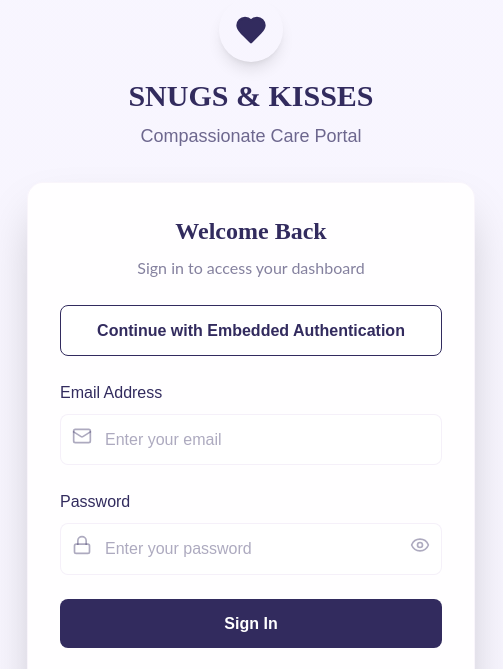
Scenario: LoginForm Component › handles network errors gracefully
Type "test@example.com" into the field labelled "Email Address" at x=251, y=440, box [60,414,442,465]
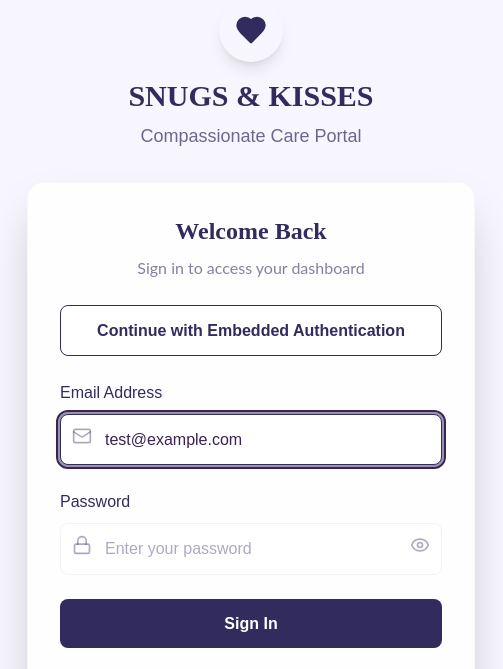
Type "password123" into the password field labelled "Password" at x=251, y=549, box [60,523,442,575]
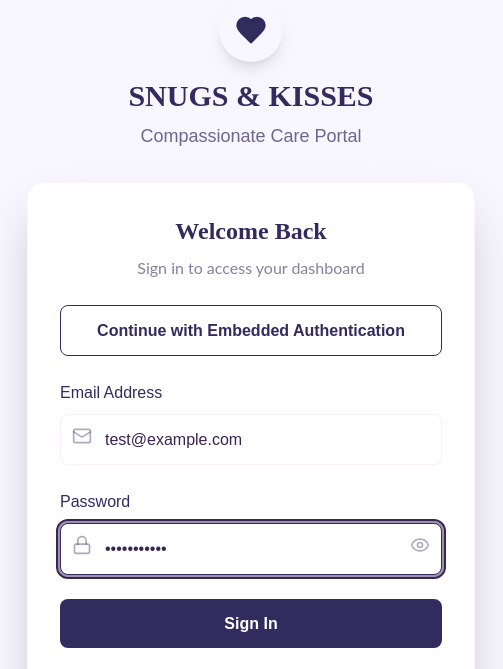
Click the button "Sign In" at x=251, y=623, box [60,599,442,648]
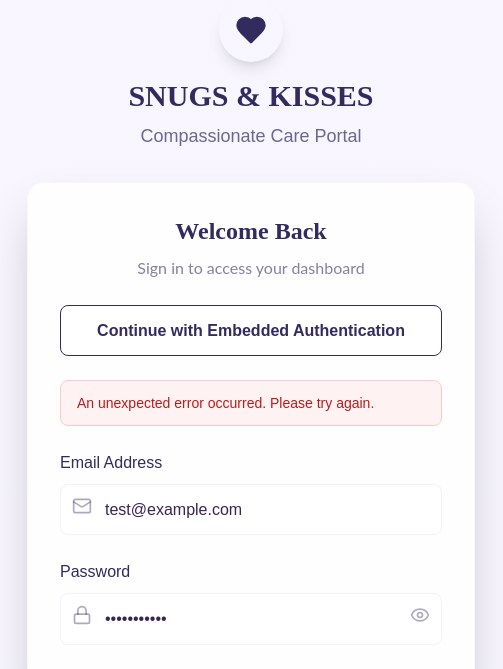
Expected: the text "An unexpected error occurred. Please try again." is shown, [60,380,442,426]
